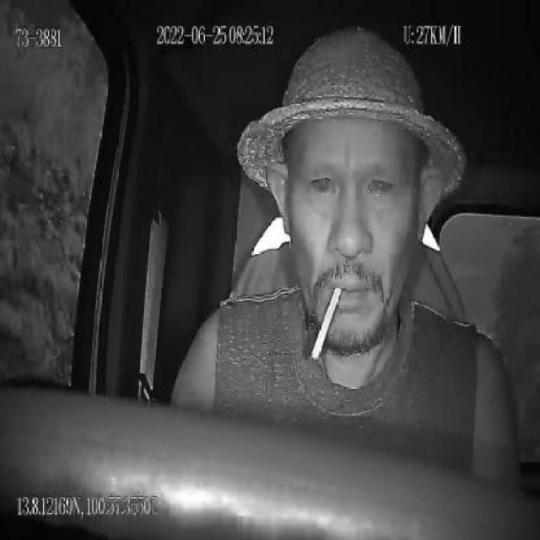smoking: (310, 285, 342, 364)
